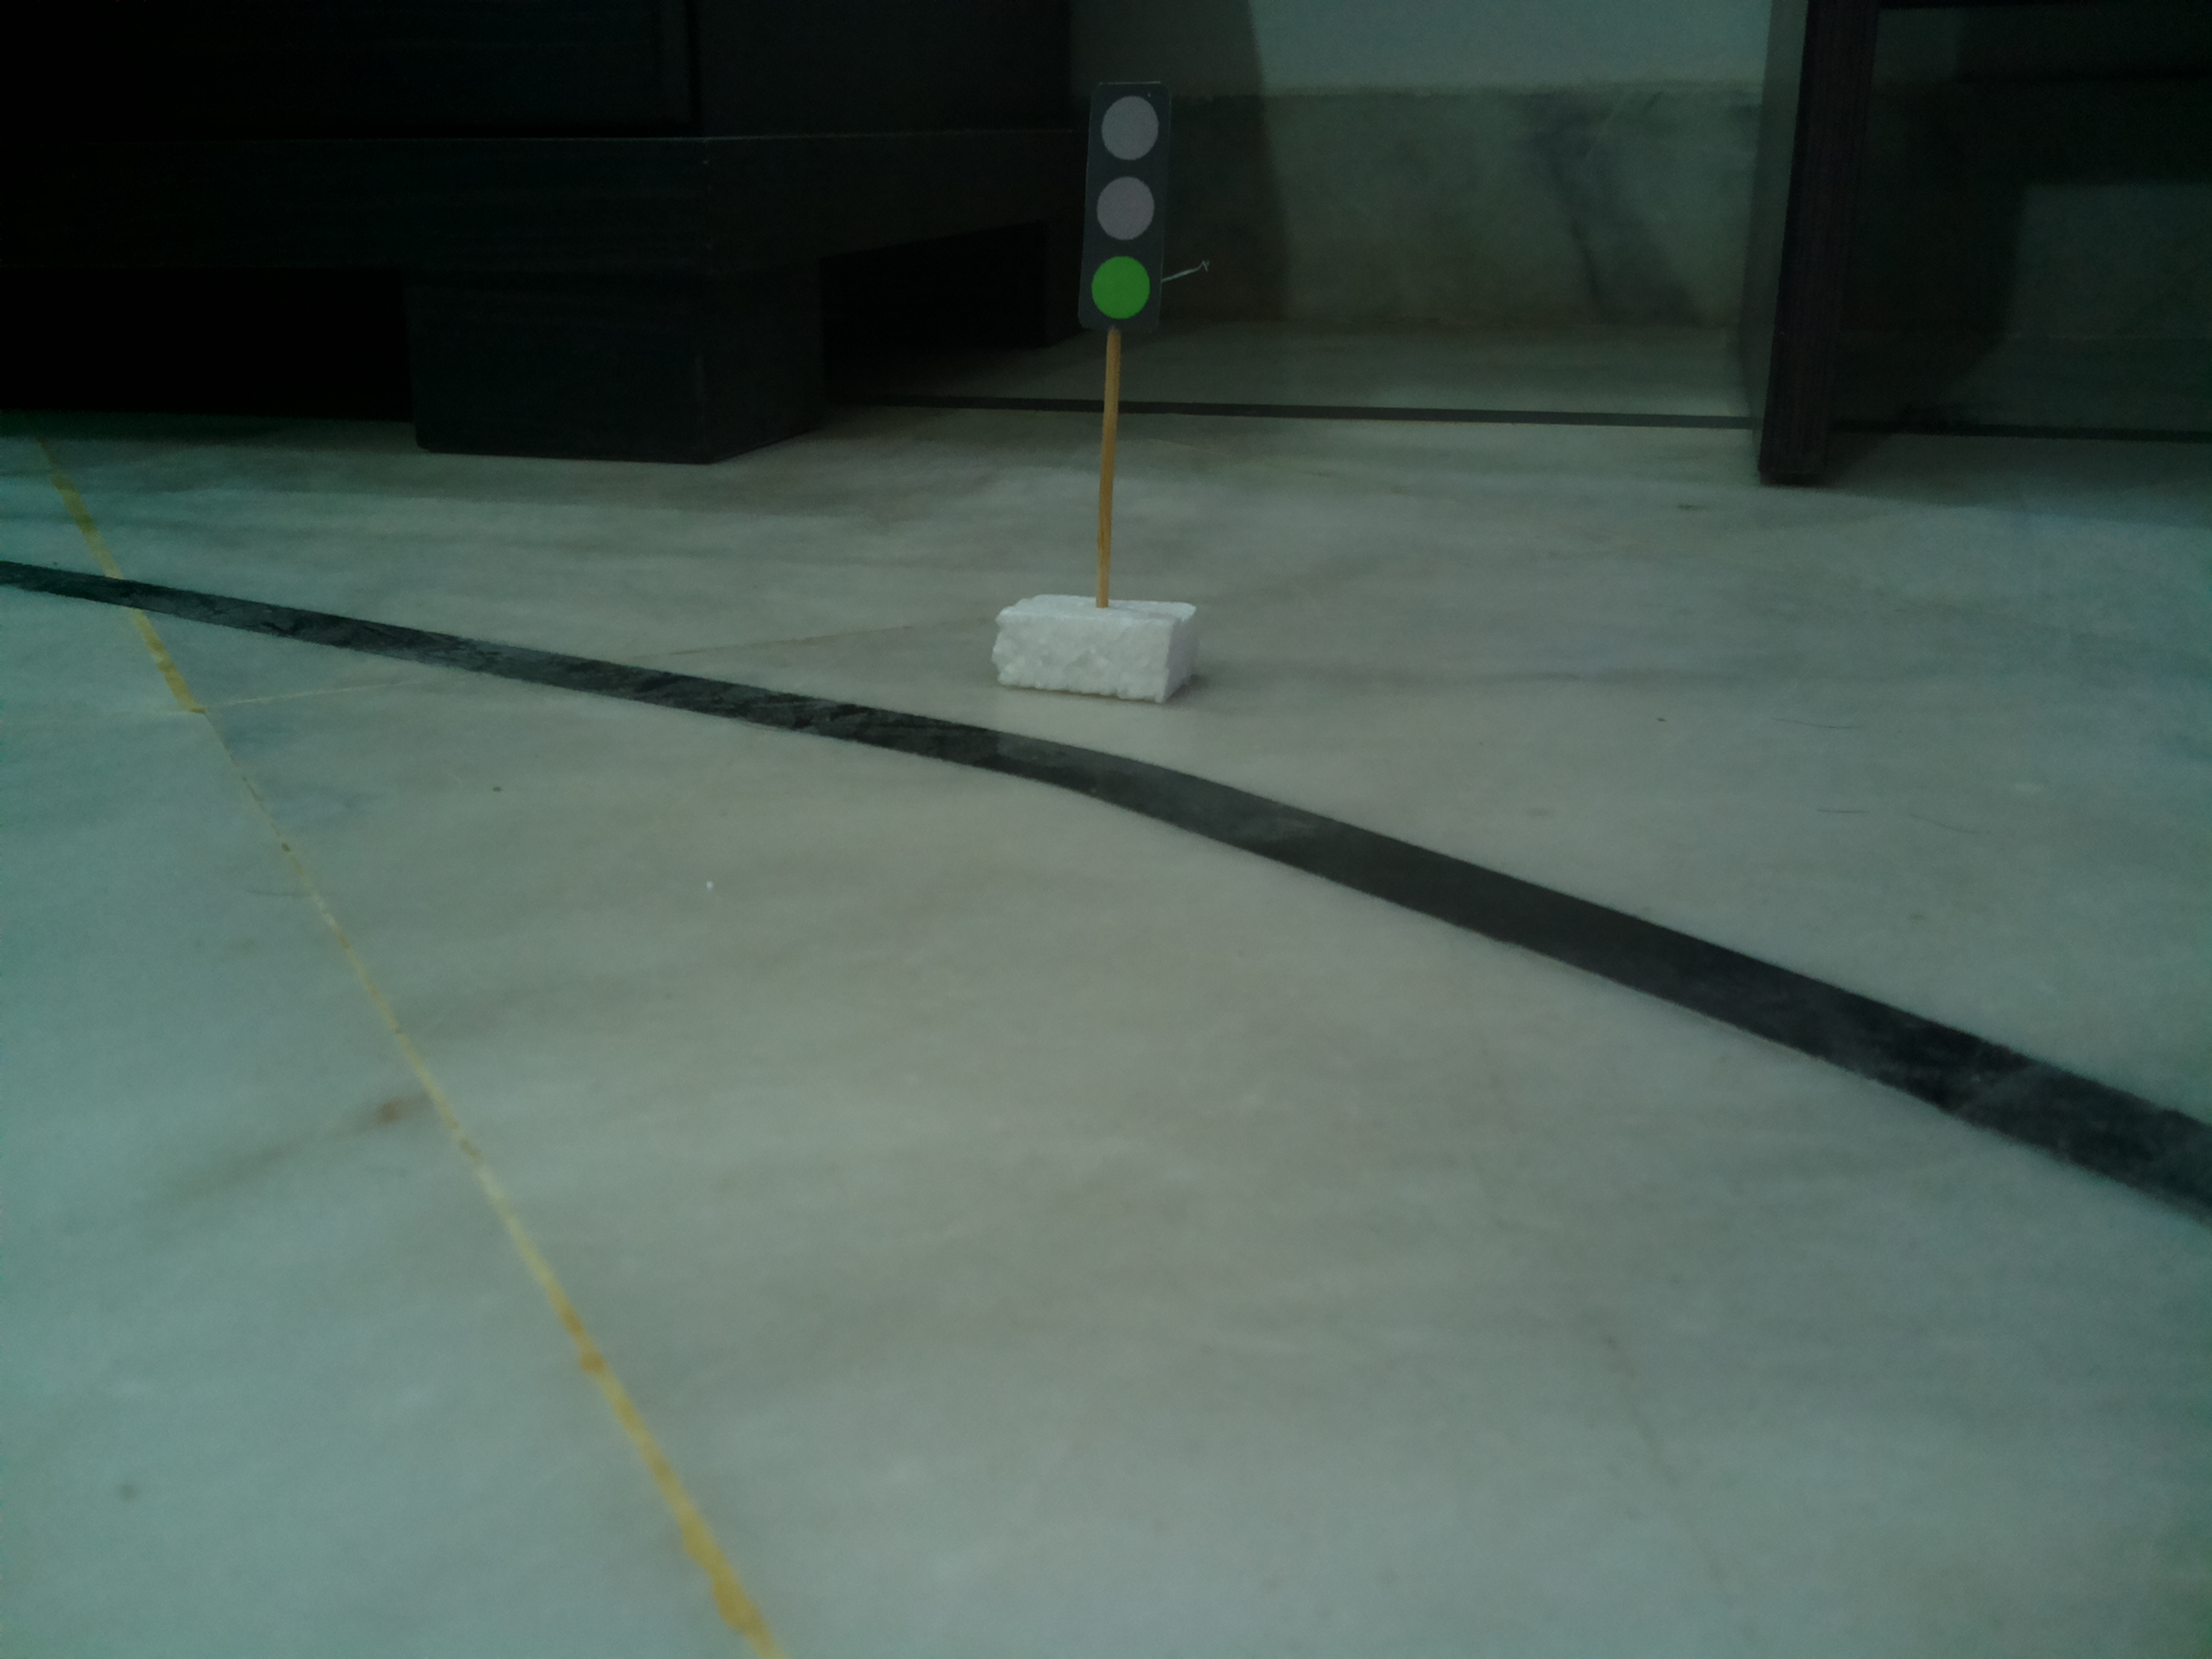Green traffic light: (1068, 73, 1181, 333)
